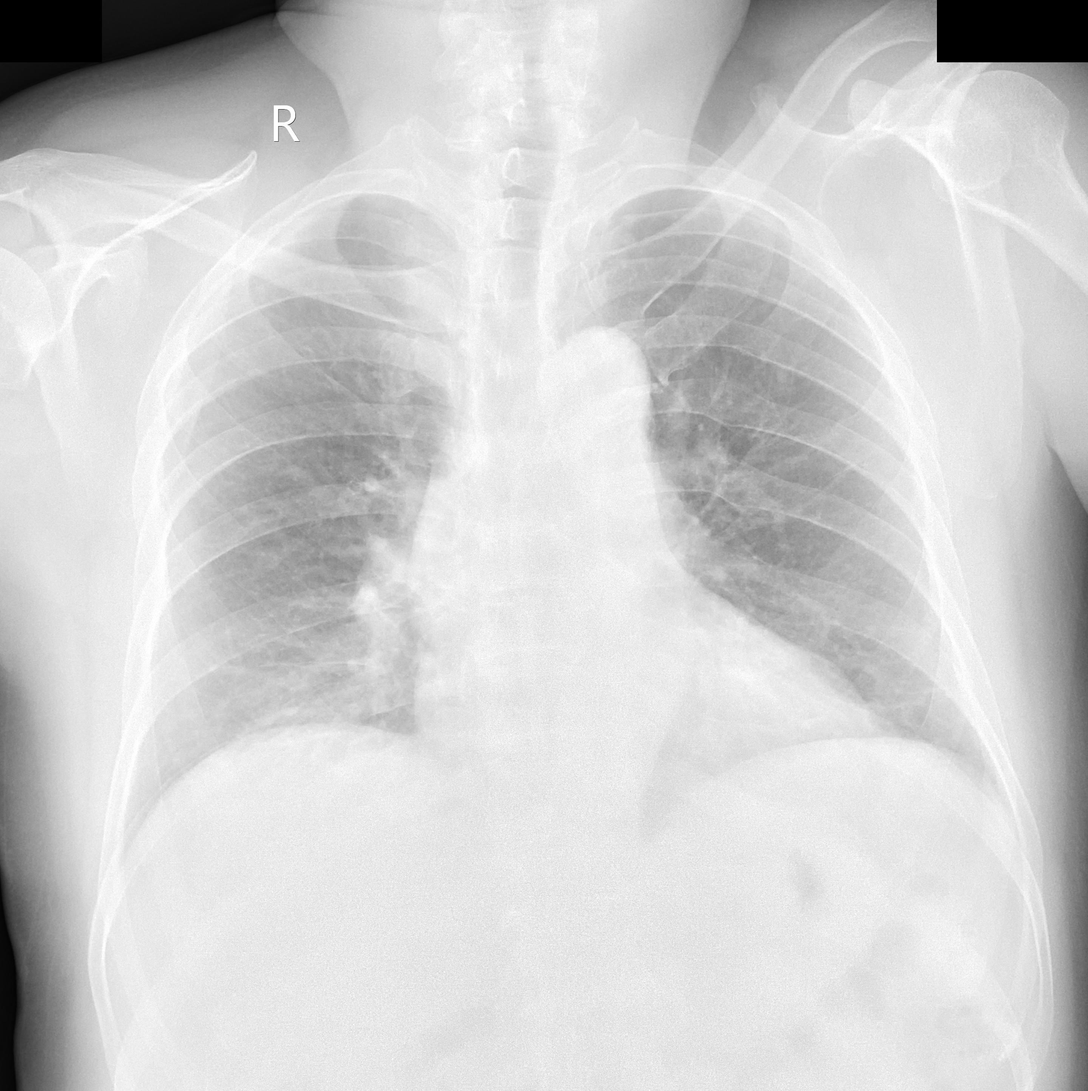Aortic enlargement: (533, 324, 652, 463)
Cardiomegaly: (406, 688, 884, 792)
